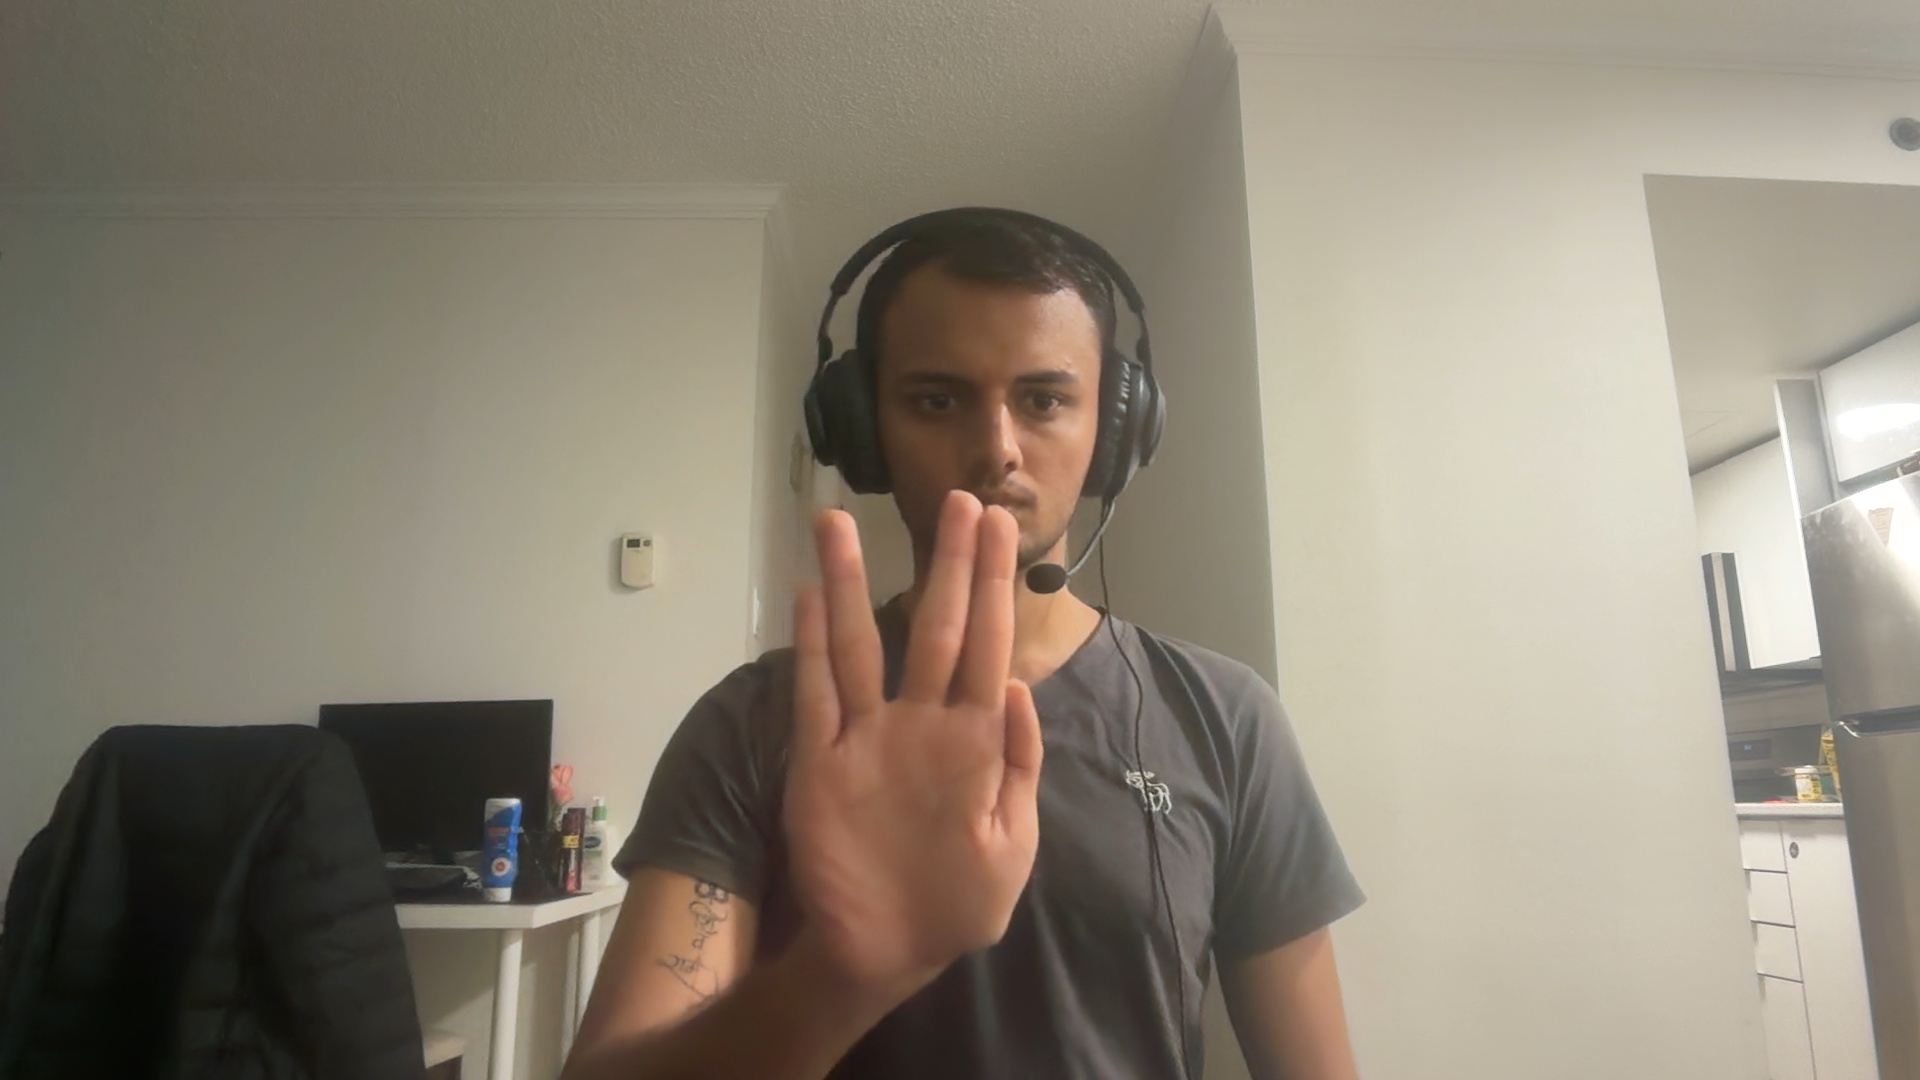livelong: (782, 489, 1044, 972)
